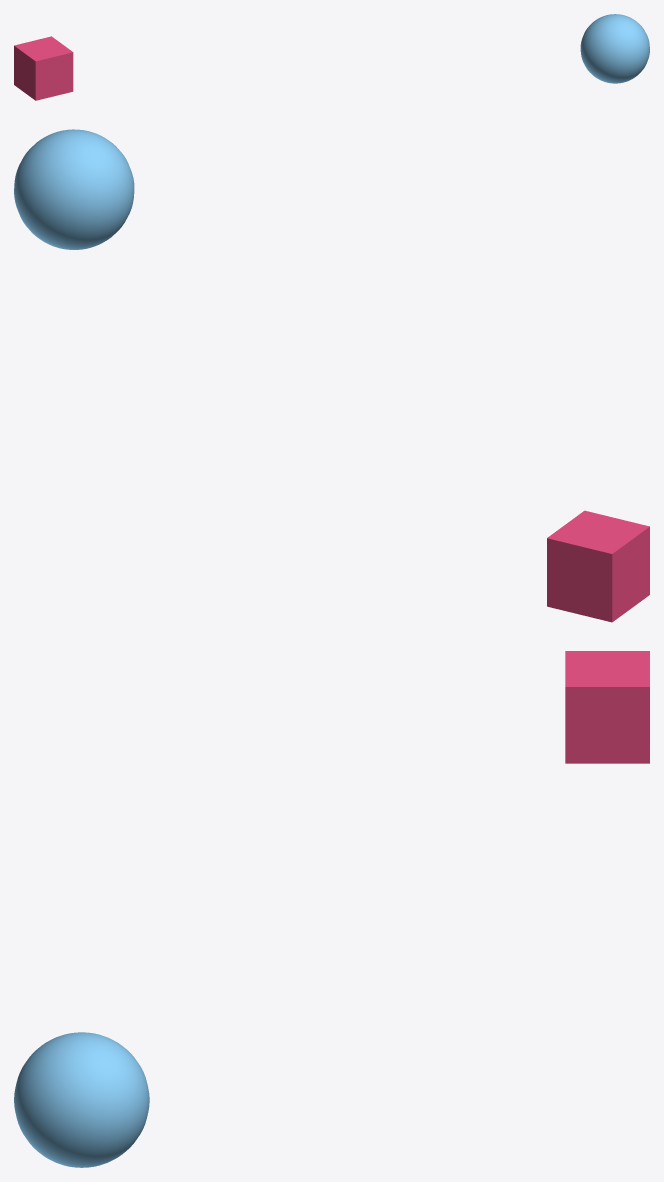
3 renders of one model, top to bottom at view 1: azimuth 30°, elevation 25°; view 2: azimuth 150°, elevation 25°; view 3: azimuth 270°, elevation 25°, orthographic. The views are drawn at different scales.
Size of the model in its own units: 64.5 by 8 by 37.5.
